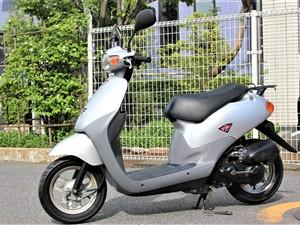motorbike: (38, 8, 297, 225)
